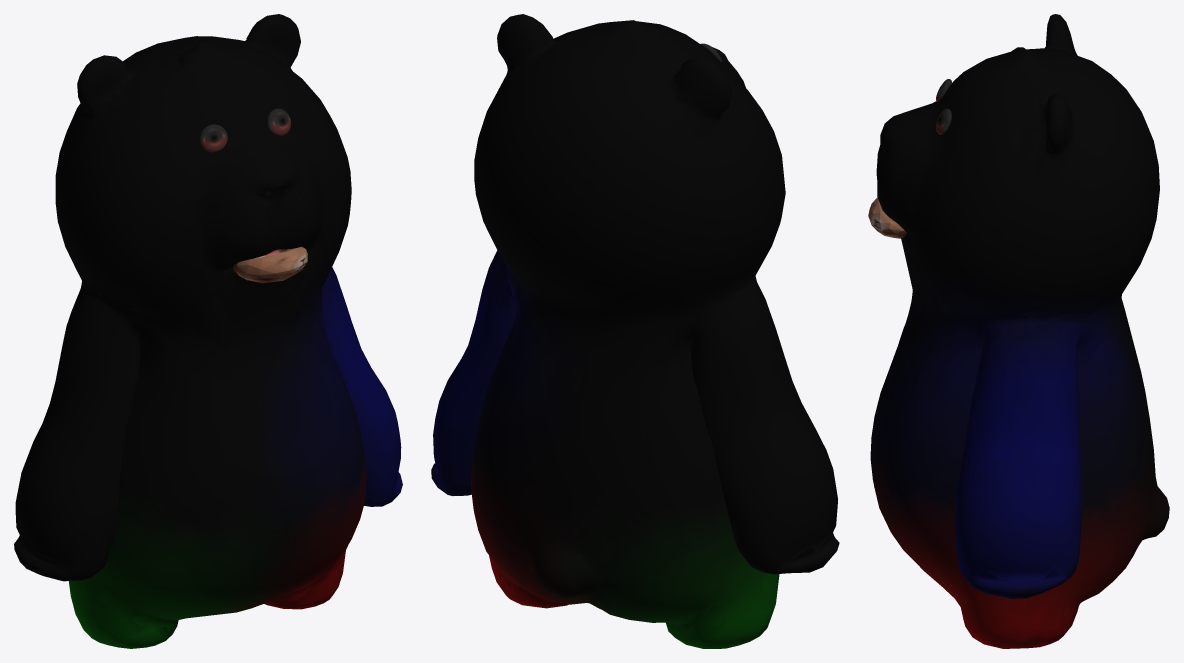
The model's file is bear_shell_v5.glb.
3 views of the same model, side by side, from view 1: azimuth 30°, elevation 25°; view 2: azimuth 150°, elevation 25°; view 3: azimuth 270°, elevation 25° (orthographic). The views are drawn at different scales.
Parts seen in each view (by area): view 1: BoundedShellGroom, Body, BrownBear_Normal; view 2: BoundedShellGroom, Body; view 3: BoundedShellGroom, Body, BrownBear_Normal.
Boxes of the visible parts, x1=… form: BoundedShellGroom: x1=14, y1=14, x2=402, y2=648; Body: x1=17, y1=34, x2=378, y2=631; BrownBear_Normal: x1=200, y1=108, x2=290, y2=152; BoundedShellGroom: x1=431, y1=14, x2=839, y2=648; Body: x1=492, y1=25, x2=834, y2=631; BoundedShellGroom: x1=868, y1=14, x2=1169, y2=648; Body: x1=879, y1=36, x2=1154, y2=623; BrownBear_Normal: x1=936, y1=79, x2=951, y2=134.
Bounding box in the file's own units: 1.69 × 2.45 × 1.23.
Materials: 4 (3 with a texture image).
